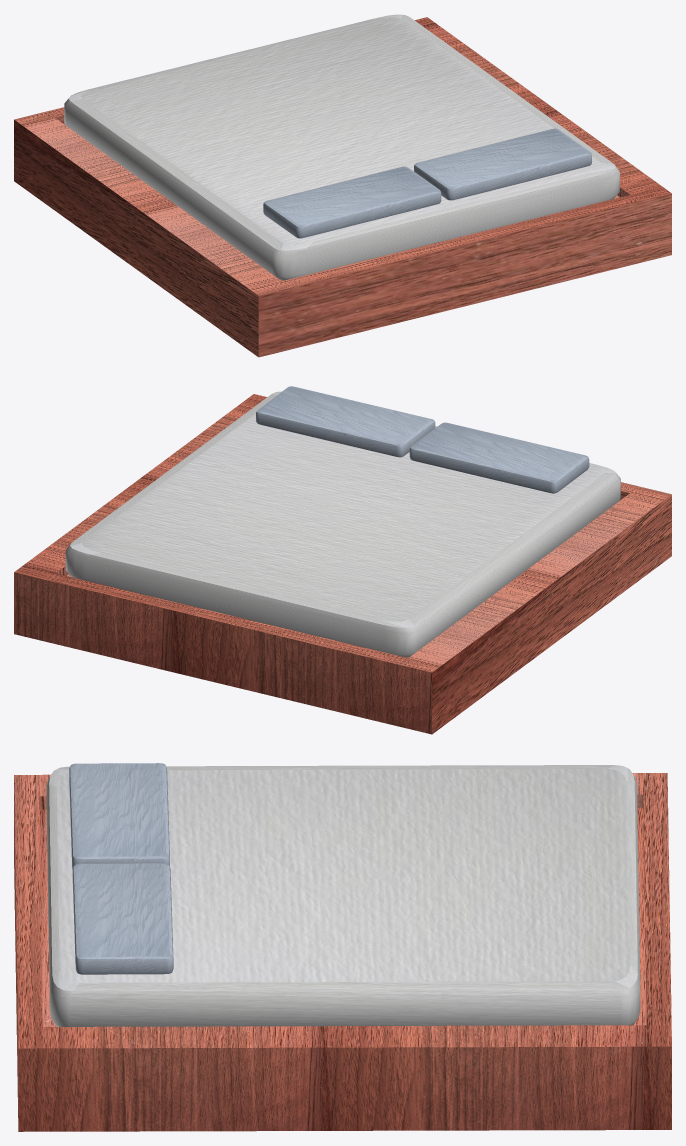
Rendered from LivingQuarters_CapsBed_Unwrapped.fbx.
The picture shows the model from 3 angles, top to bottom: view 1: azimuth 30°, elevation 25°; view 2: azimuth 150°, elevation 25°; view 3: azimuth 270°, elevation 25°; orthographic projection. The views are drawn at different scales.
Visible parts, largest first — view 1: Matress002, BedFrame002, Pillow002, Pillow003; view 2: Matress002, BedFrame002, Pillow002, Pillow003; view 3: Matress002, BedFrame002, Pillow003, Pillow002.
Part boxes in pixels (left/top/right/bottom): Matress002: left=64, top=14, right=619, bottom=280; BedFrame002: left=14, top=17, right=671, bottom=357; Pillow002: left=263, top=166, right=441, bottom=238; Pillow003: left=414, top=128, right=591, bottom=200; Matress002: left=65, top=391, right=620, bottom=657; BedFrame002: left=14, top=394, right=671, bottom=734; Pillow002: left=409, top=422, right=589, bottom=493; Pillow003: left=256, top=386, right=435, bottom=457; Matress002: left=46, top=765, right=640, bottom=1026; BedFrame002: left=14, top=773, right=671, bottom=1131; Pillow003: left=72, top=863, right=173, bottom=974; Pillow002: left=69, top=763, right=169, bottom=869.
Size of the model in its own units: 133 by 30.41 by 134.
